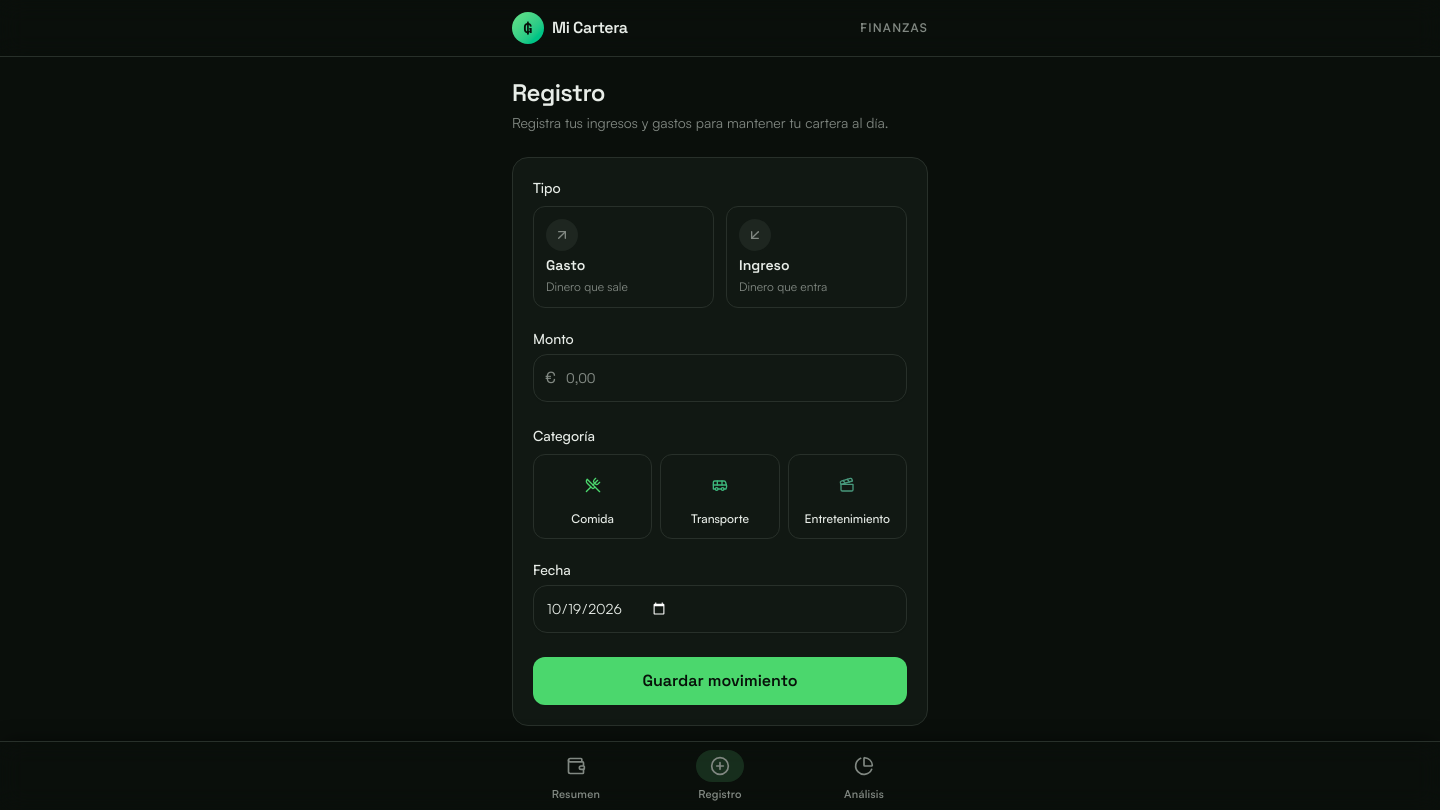
Test: Registro › saves a transaction, confirms visually, and clears the form
Click the link with test id "nav.registro".
click(720, 775)  # box left=696, top=750, right=744, bottom=800
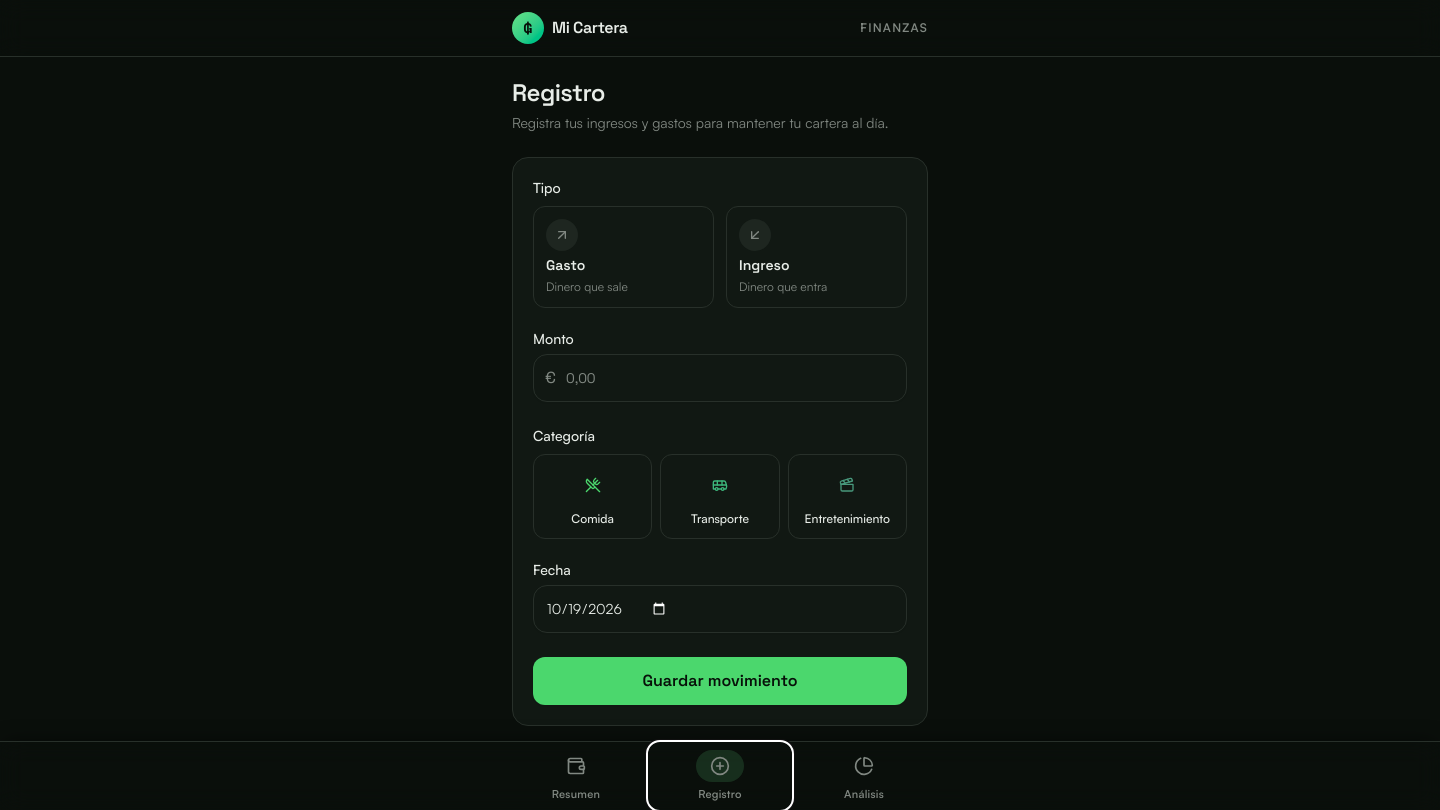
Click the button with test id "transaction.kind.expense".
click(624, 257)  # box left=533, top=206, right=714, bottom=308
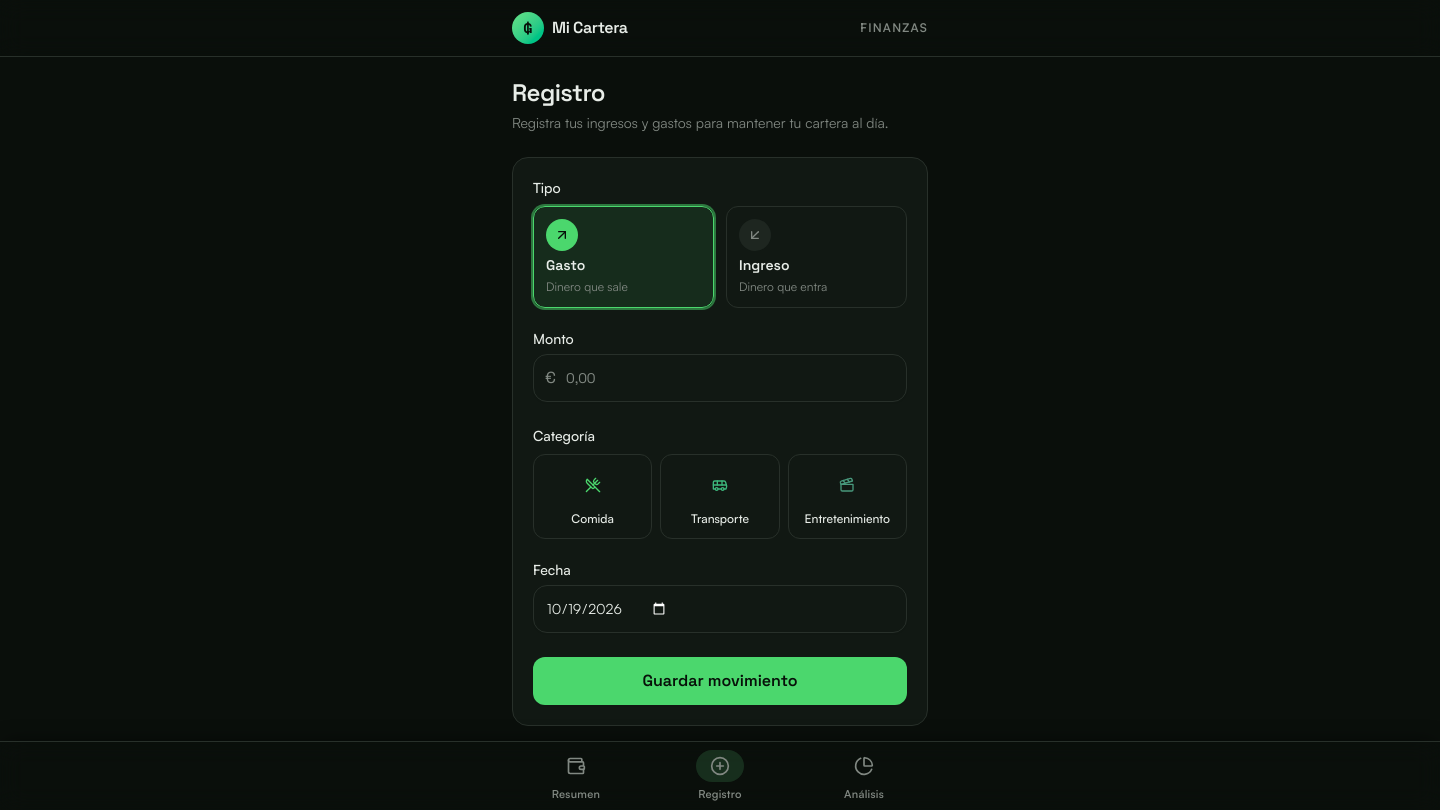
Type "50" into the field with test id "transaction.amount_input".
click(720, 378); type("50")  # box left=533, top=354, right=907, bottom=402
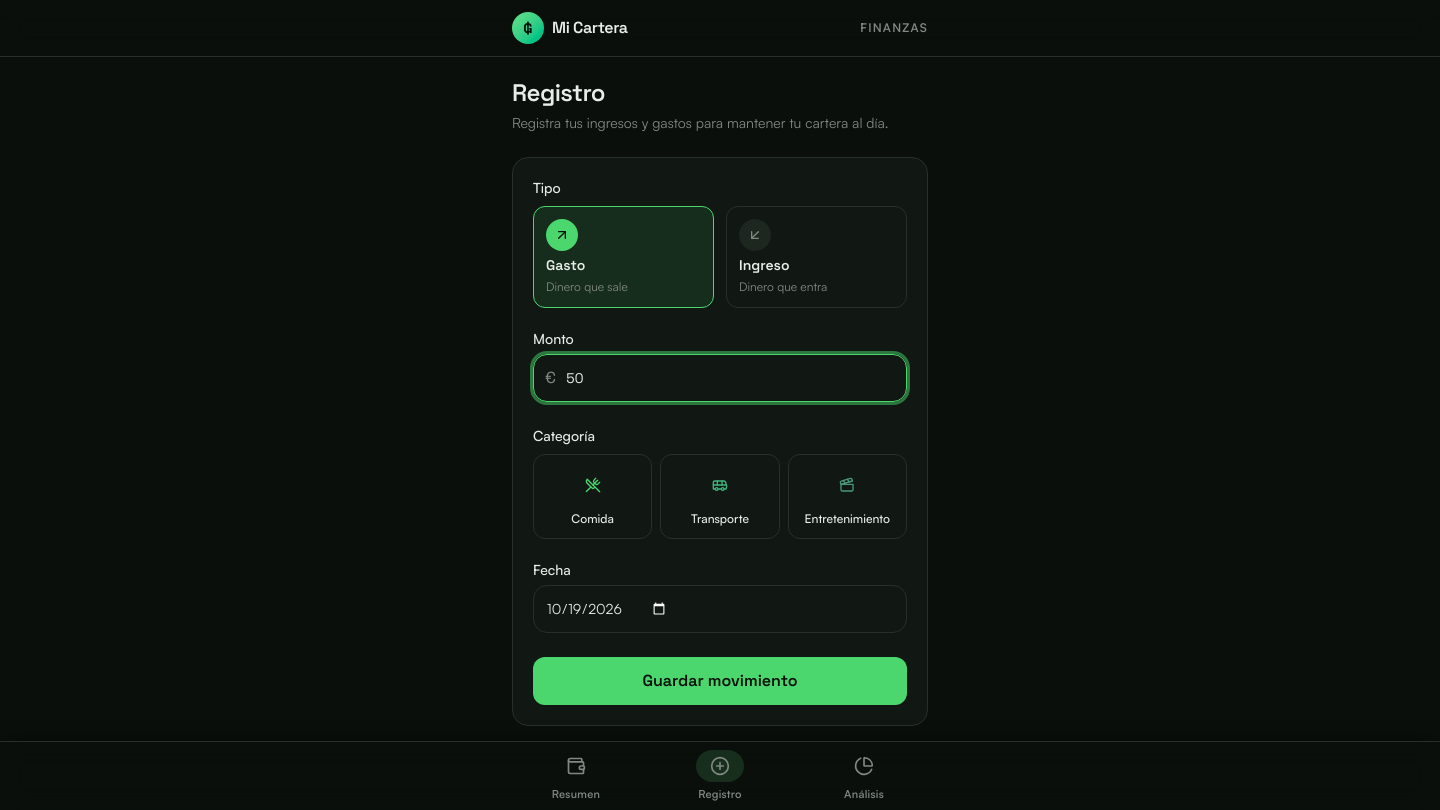
Click the button with test id "transaction.category.comida".
click(593, 496)  # box left=533, top=454, right=652, bottom=539
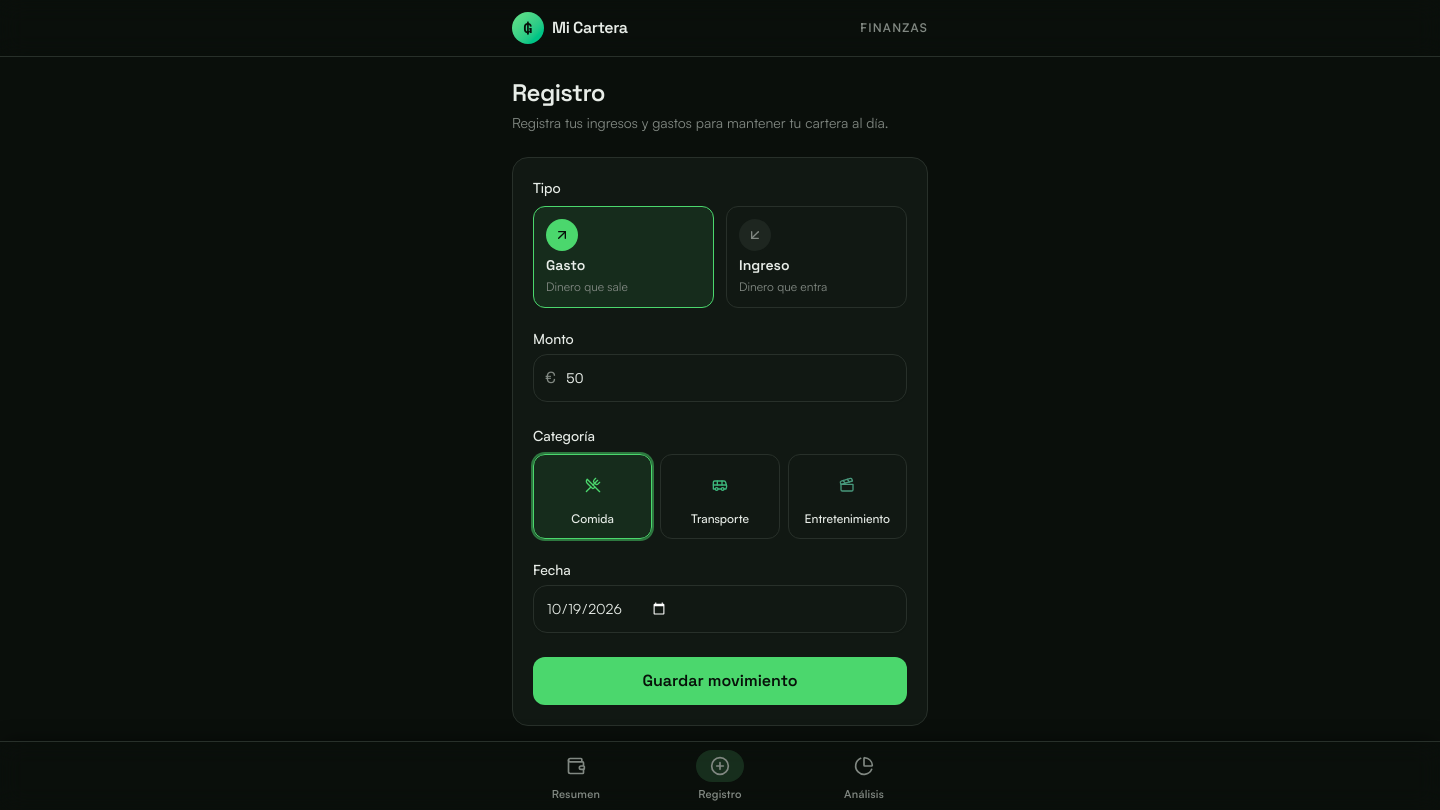
Click the button with test id "transaction.submit_button".
click(720, 681)  # box left=533, top=657, right=907, bottom=705
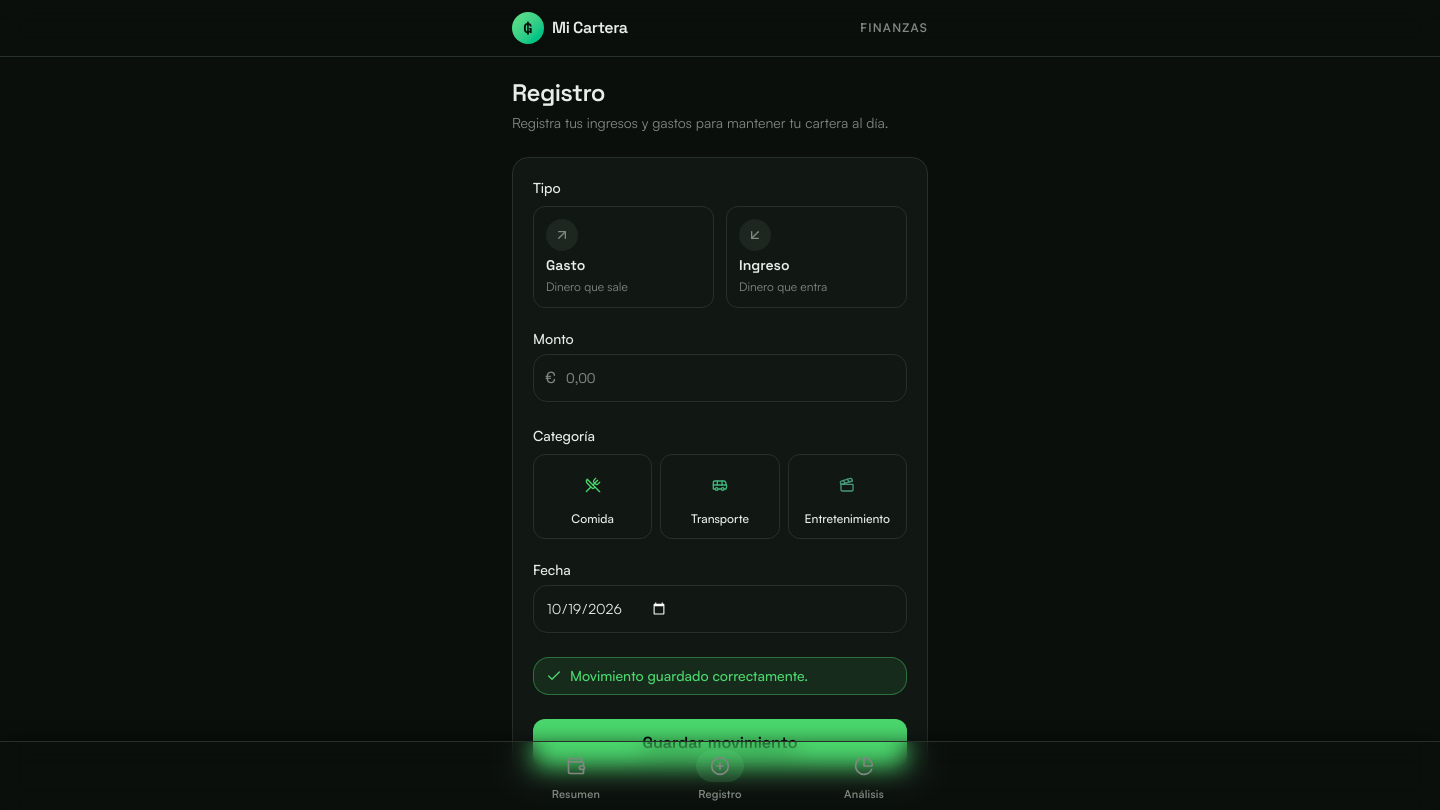
Expected: the element with test id "transaction.success_state" shows "guardado correctamente", left=570, top=667, right=808, bottom=684
Expected: the field with test id "transaction.amount_input" is empty, left=533, top=354, right=907, bottom=402
